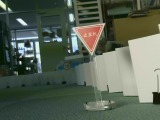stop: (71, 22, 107, 55)
